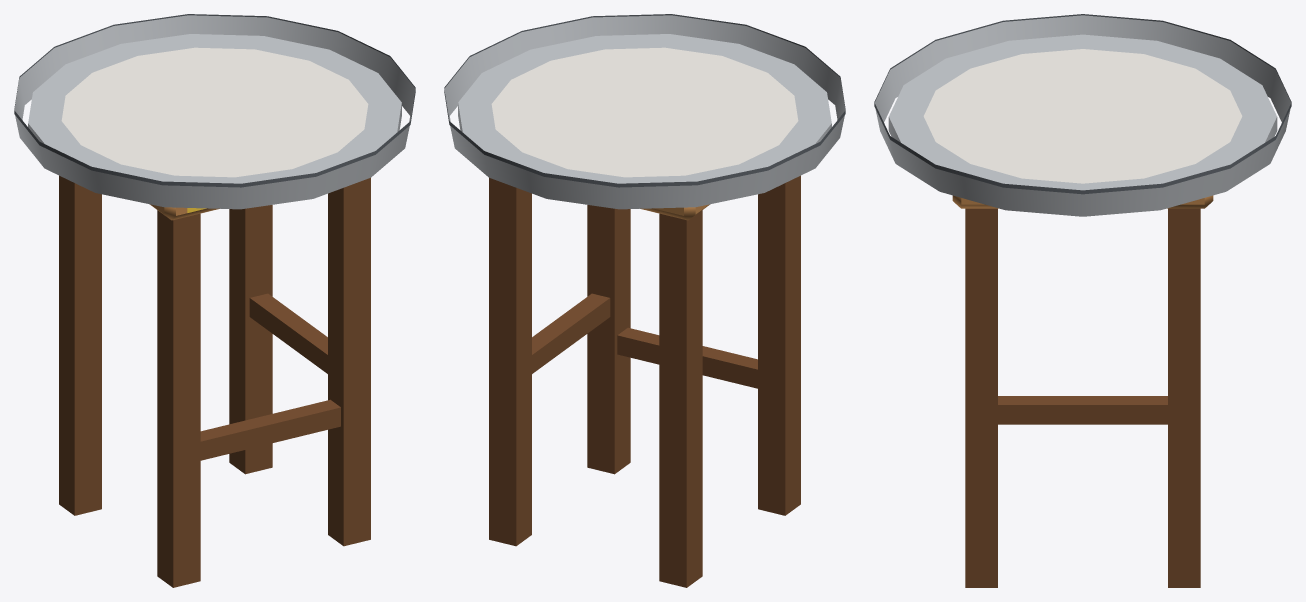
File: plate_stool.glb
The picture shows the model from 3 angles, left to right: view 1: azimuth 30°, elevation 25°; view 2: azimuth 150°, elevation 25°; view 3: azimuth 270°, elevation 25°; orthographic projection. The views are drawn at different scales.
Parts seen in each view (by area): view 1: plate_stool; view 2: plate_stool; view 3: plate_stool.
Part boxes in pixels (x1,y1,x2,y2): plate_stool: (14, 14, 415, 587); plate_stool: (444, 14, 845, 587); plate_stool: (874, 14, 1291, 587).
Size of the model in its own units: 0.576 by 0.664 by 0.576.
Materials: 1 (1 with a texture image).
